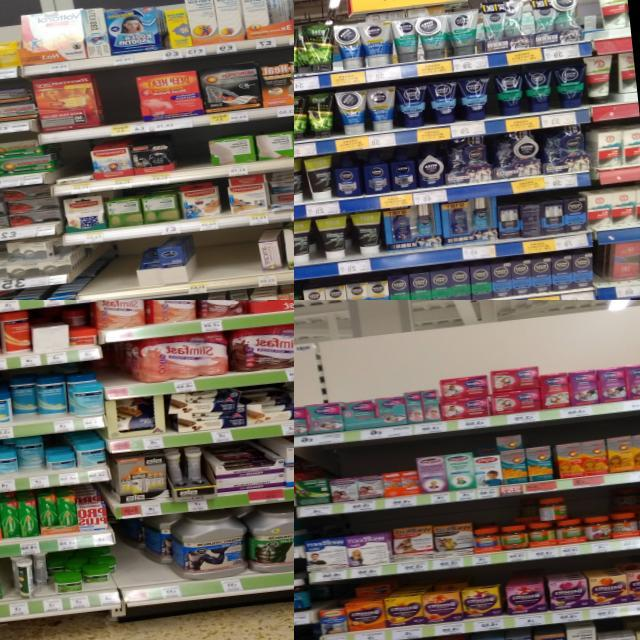empty_space: (193, 231, 261, 293), (101, 68, 139, 136), (115, 522, 147, 602), (176, 133, 211, 181), (102, 341, 129, 399), (111, 244, 137, 300)
